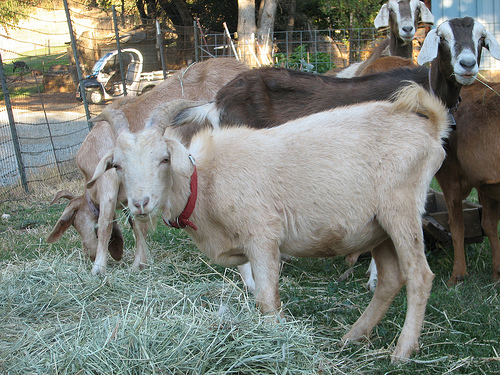goat: (90, 80, 452, 367), (169, 15, 500, 280), (49, 56, 252, 276), (315, 1, 434, 76)
